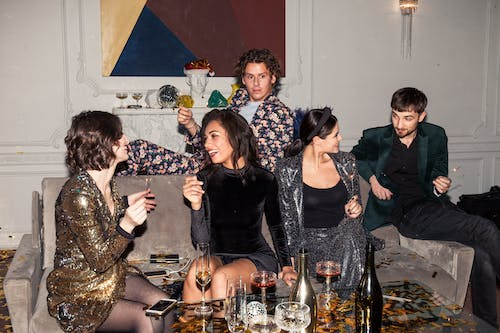alcohol: (354, 241, 384, 333), (289, 246, 316, 333), (193, 242, 214, 315), (249, 270, 278, 312), (274, 301, 312, 333), (315, 260, 341, 300), (227, 295, 248, 333), (247, 314, 281, 333)
